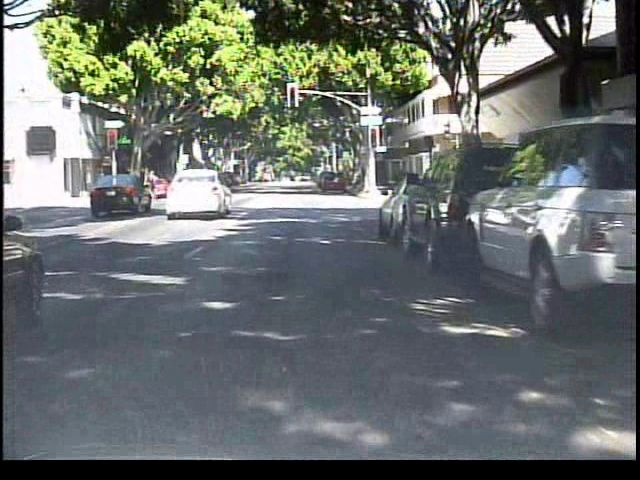person: (144, 165, 162, 193)
